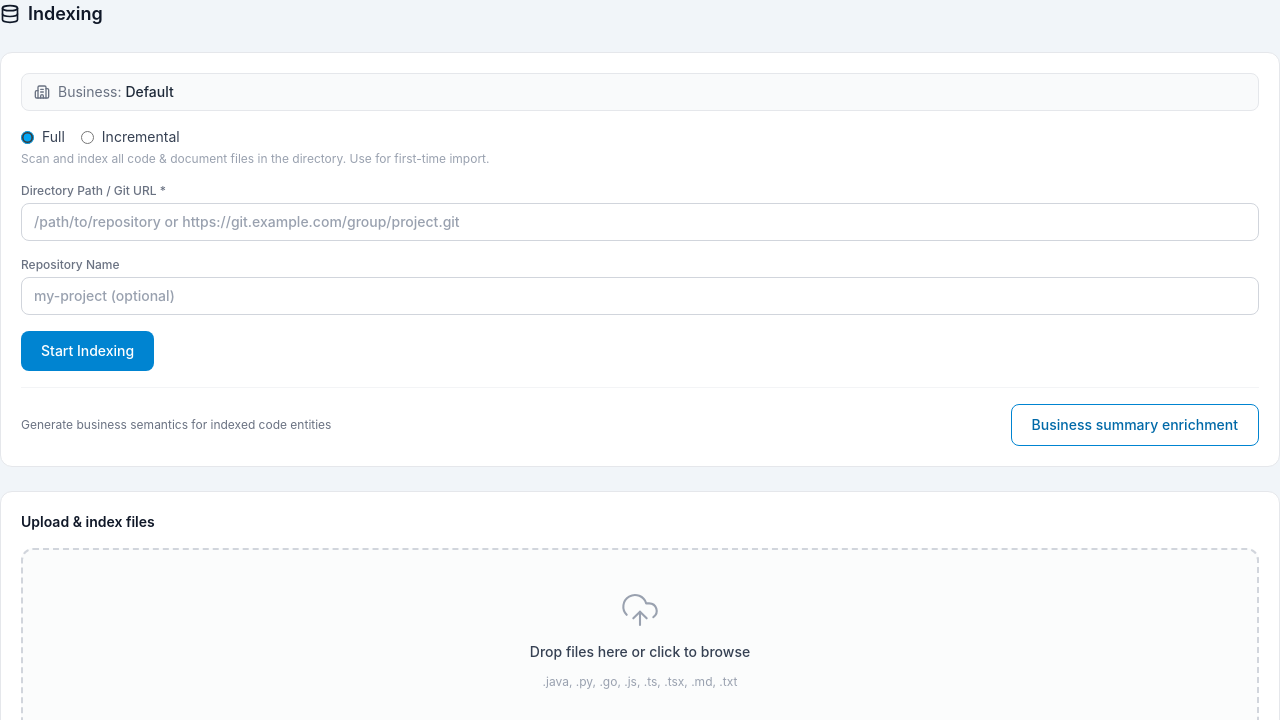
Indexing › opens enrich modal
Click the button "Business summary enrichment" at [1135, 425], box [1011, 404, 1259, 446]
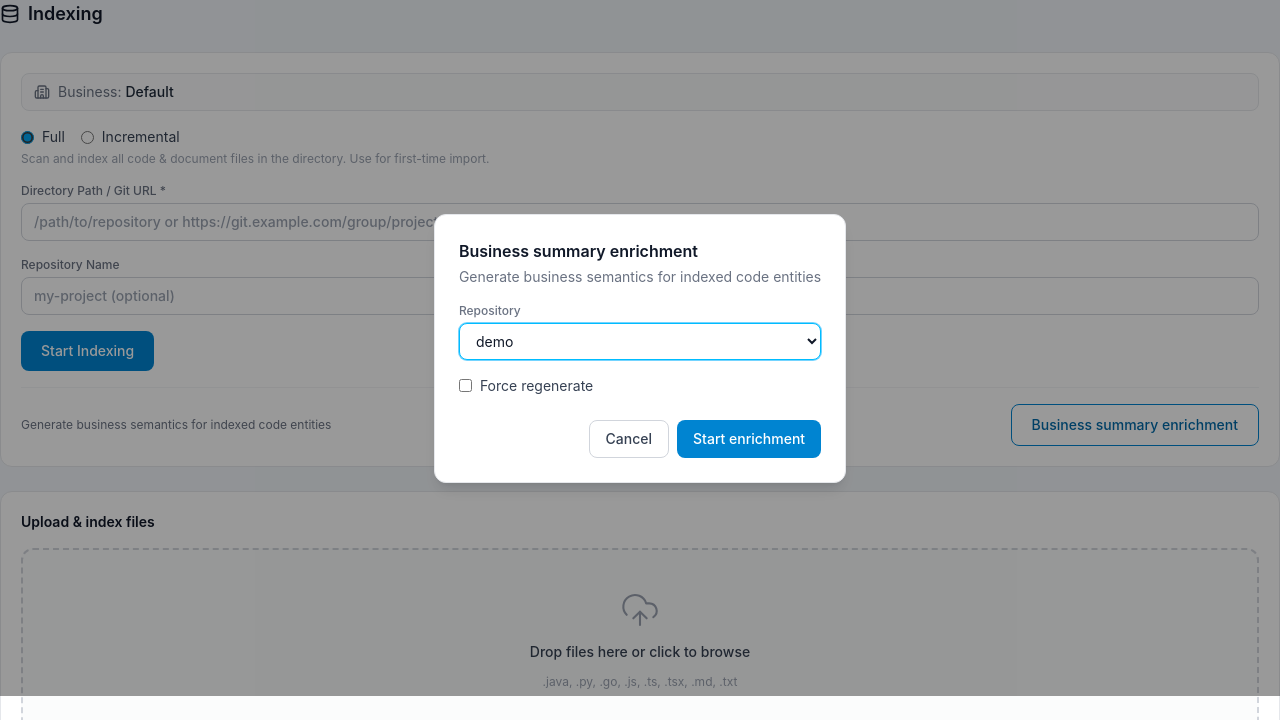
Result: the dialog is shown
